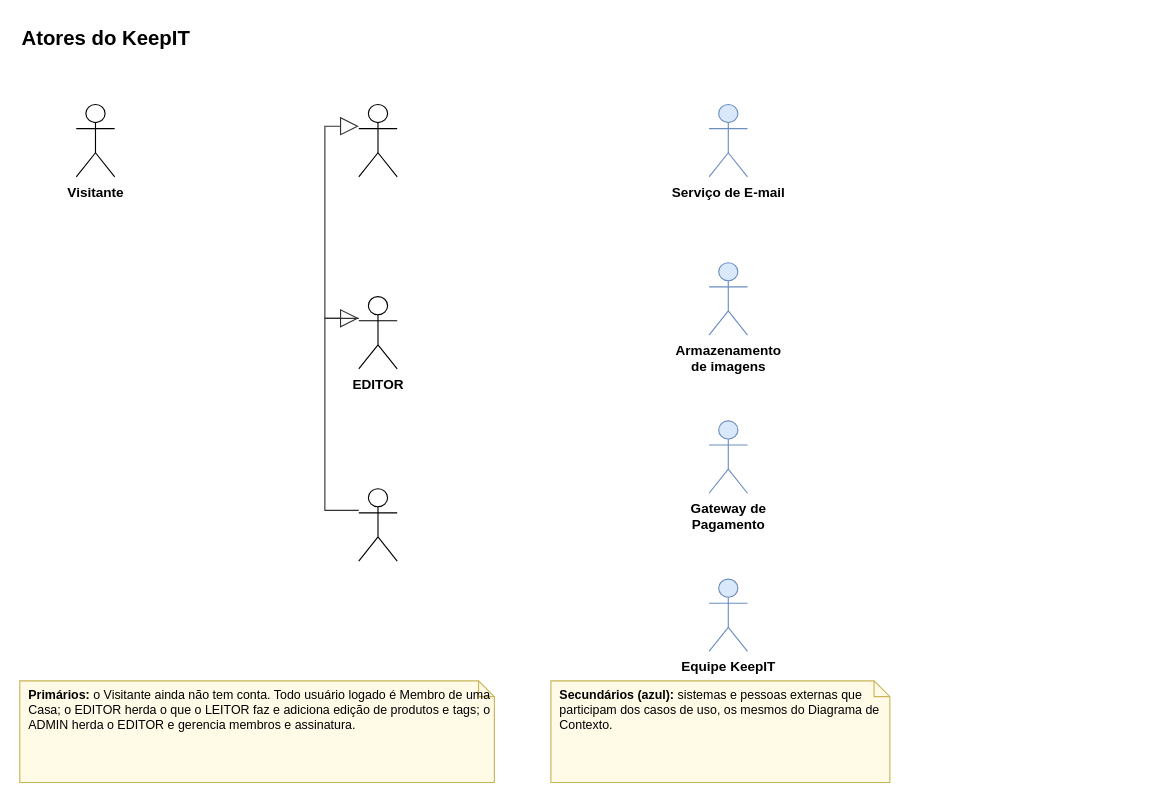
This 1170x802 diagram has some shape labels left out. Here are the shapes that lost their labels. From the top down, the centre of each, then its label:
At (377,140): "Membro / LEITOR".
At (377,524): "ADMIN".
